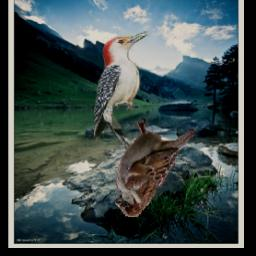Sparrow: (115, 120, 198, 218)
Woodpecker: (93, 31, 149, 152)
